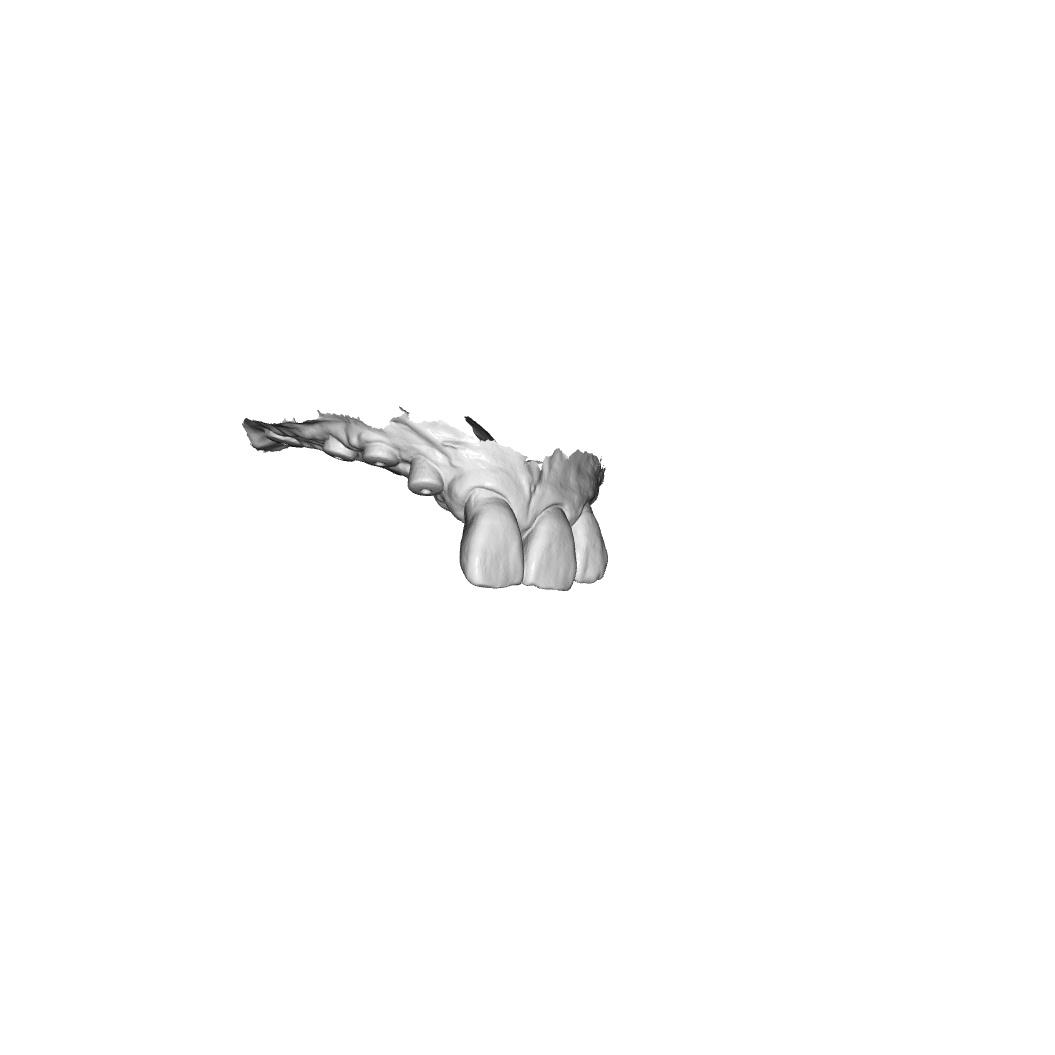implant: (407, 455, 446, 498), (362, 441, 402, 469), (321, 433, 358, 463)
incisor: (459, 496, 526, 590), (522, 504, 580, 592), (571, 500, 610, 585)
